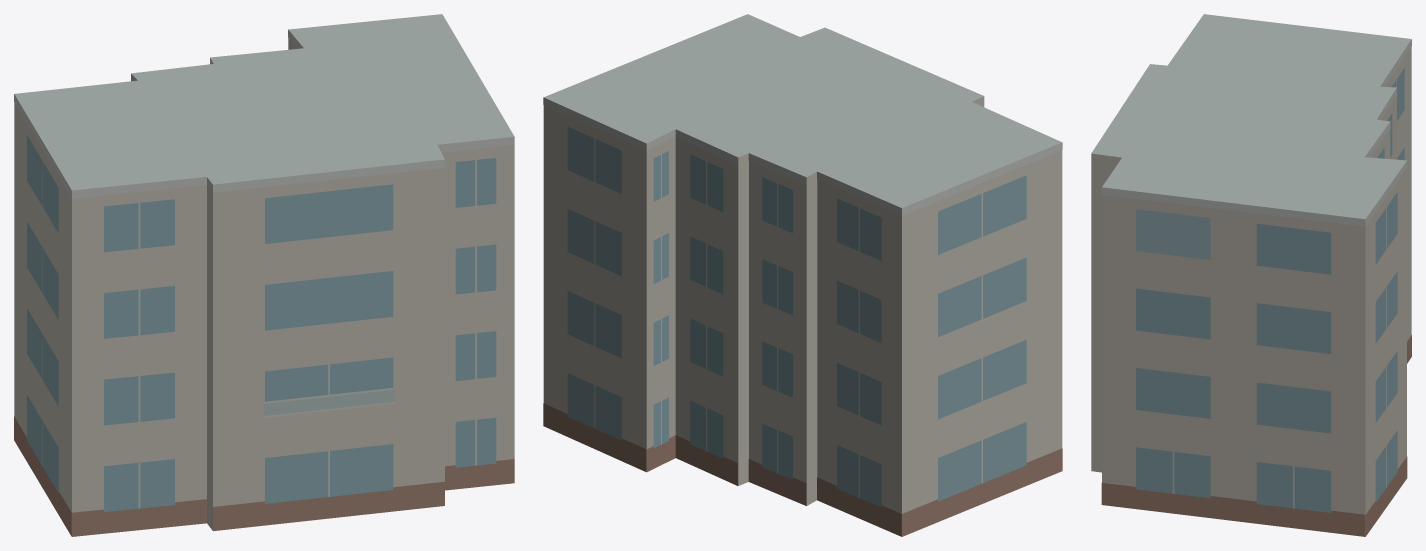
The model's file is survey-upis-32978565.glb.
3 views of the same model, side by side, from view 1: azimuth 30°, elevation 25°; view 2: azimuth 150°, elevation 25°; view 3: azimuth 270°, elevation 25° (orthographic). The views are drawn at different scales.
Parts seen in each view (by area): view 1: survey-upis-32978565.tmp; view 2: survey-upis-32978565.tmp; view 3: survey-upis-32978565.tmp.
Part boxes in pixels (x1,y1,x2,y2): survey-upis-32978565.tmp: (14,14,514,536); survey-upis-32978565.tmp: (543,14,1062,536); survey-upis-32978565.tmp: (1091,14,1411,536).
Bounding box in the file's own units: 14.42 × 10.4 × 9.53.
